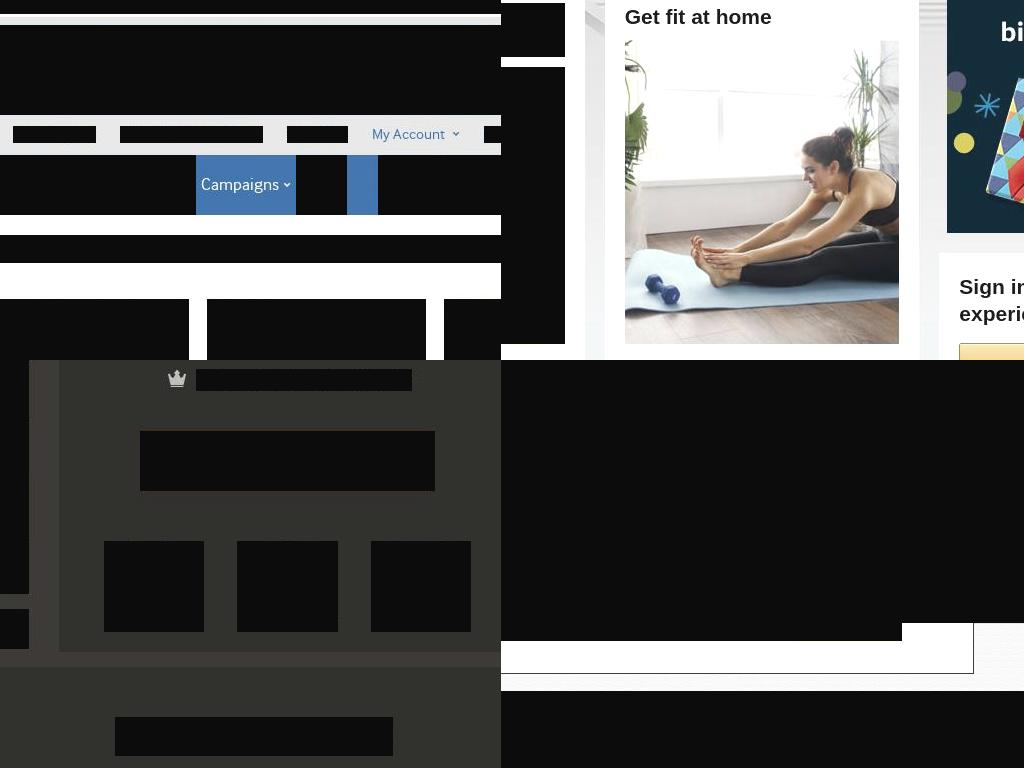button: (624, 40, 900, 344), (501, 67, 565, 344), (140, 431, 435, 491), (237, 541, 338, 632), (104, 541, 204, 632), (371, 541, 471, 632), (80, 155, 196, 215), (196, 155, 296, 215), (0, 155, 80, 215), (794, 601, 902, 641), (378, 155, 442, 215), (442, 155, 501, 215), (296, 155, 347, 215), (169, 126, 263, 143), (372, 126, 460, 143)
field: (501, 601, 795, 641)
heading: (501, 691, 1024, 768), (0, 235, 501, 263), (115, 717, 393, 756), (624, 3, 900, 30), (959, 273, 1024, 327), (501, 3, 565, 57)
iframe: (0, 25, 501, 115), (946, 0, 1024, 233)
image: (624, 40, 900, 344), (501, 67, 565, 344), (207, 299, 426, 360), (257, 541, 318, 601), (124, 541, 184, 601), (391, 541, 451, 601)
link: (13, 126, 96, 143), (287, 126, 348, 143)
text: (501, 360, 1024, 623), (0, 0, 501, 14), (196, 369, 412, 391), (241, 616, 335, 632), (169, 126, 251, 143), (112, 616, 195, 632), (372, 126, 448, 143), (382, 616, 461, 632), (0, 609, 29, 649), (120, 126, 169, 143)
